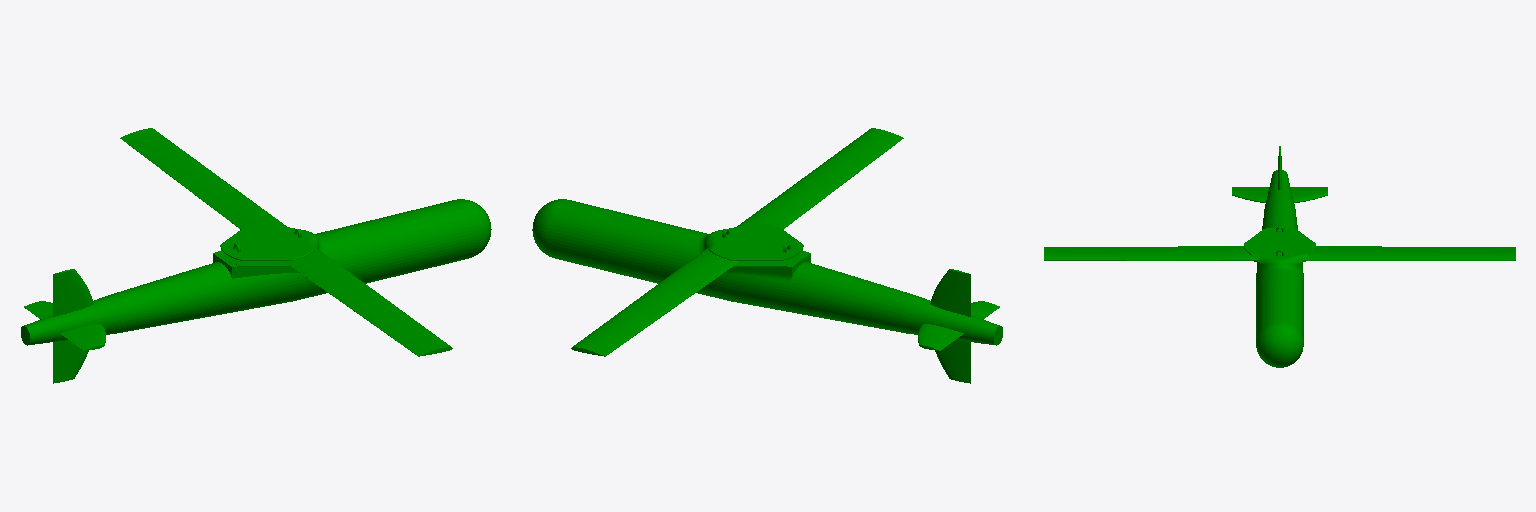
robot.urdf — uav_ver62:
<?xml version="1.0"?>
<robot name="uav_ver62">

  <!-- UAV 색상 -->
  <material name="uav_green">
    <color rgba="0.0 0.6 0.0 0.60"/>
  </material>

  <!-- ==================== UAV 본체 ==================== -->

  <link name="base_link">

    <inertial>
      <origin
        xyz="0.050569840203091215 3.202564255348868e-06 0.005434556406299246"
        rpy="0 0 0"/>

      <mass value="15.0"/>

      <inertia
        ixx="0.63"
        iyy="6.46"
        izz="6.46"
        ixy="0.0"
        iyz="0.0"
        ixz="0.0"/>
    </inertial>

    <!-- 비행기 본체 모델 -->
    <visual name="base_link_visual">
      <origin xyz="0 0 0" rpy="0 0 3.141592653589793"/>

      <geometry>
        <mesh
          filename="../meshes/base_link.stl"
          scale="0.0003 0.0003 0.0003"/>
      </geometry>

      <material name="uav_green"/>
    </visual>


    <!-- 본체 충돌 모델 -->
    <collision name="base_link_collision">
      <origin xyz="0 0 0" rpy="0 0 3.141592653589793"/>

      <geometry>
        <mesh
          filename="../meshes/base_link.stl"
          scale="0.0003 0.0003 0.0003"/>
      </geometry>
    </collision>

  </link>


  <!-- ==================== 왼쪽 날개 ==================== -->

  <link name="left_wing_1">

    <inertial>
      <origin
        xyz="-0.08189955557332364 -0.6634945672157346 -0.0181460003779636"
        rpy="0 0 0"/>

      <mass value="2.5"/>

      <inertia
        ixx="0.4608"
        iyy="0.0101"
        izz="0.4707"
        ixy="0.0"
        iyz="0.0"
        ixz="0.0"/>
    </inertial>

    <visual name="left_wing_visual">
      <origin xyz="-0.075 0.06 -0.18" rpy="0 0 0"/>

      <geometry>
        <mesh
          filename="../meshes/left_wing_1.stl"
          scale="0.0003 0.0003 0.0003"/>
      </geometry>

      <material name="uav_green"/>
    </visual>

    <collision name="left_wing_collision">
      <origin xyz="-0.075 0.06 -0.18" rpy="0 0 0"/>

      <geometry>
        <mesh
          filename="../meshes/left_wing_1.stl"
          scale="0.0003 0.0003 0.0003"/>
      </geometry>
    </collision>

  </link>


  <!-- ==================== 오른쪽 날개 ==================== -->

  <link name="right_wing_1">

    <inertial>
      <origin
        xyz="-0.08189954828725175 0.663494733381595 -0.01814624263399736"
        rpy="0 0 0"/>

      <mass value="2.5"/>

      <inertia
        ixx="0.4608"
        iyy="0.0101"
        izz="0.4707"
        ixy="0.0"
        iyz="0.0"
        ixz="0.0"/>
    </inertial>

    <visual name="right_wing_visual">
      <origin xyz="-0.075 -0.06 -0.18" rpy="0 0 0"/>

      <geometry>
        <mesh
          filename="../meshes/right_wing_1.stl"
          scale="0.0003 0.0003 0.0003"/>
      </geometry>

      <material name="uav_green"/>
    </visual>

    <collision name="right_wing_collision">
      <origin xyz="-0.075 -0.06 -0.18" rpy="0 0 0"/>

      <geometry>
        <mesh
          filename="../meshes/right_wing_1.stl"
          scale="0.0003 0.0003 0.0003"/>
      </geometry>
    </collision>

  </link>


  <!-- ==================== 날개 관절 ==================== -->

  <joint name="joint_left_wing" type="revolute">

    <origin xyz="-0.075 0.06 0.18" rpy="0 0 3.141592653589793"/>

    <parent link="base_link"/>
    <child link="left_wing_1"/>

    <axis xyz="0.0 0.0 1.0"/>

    <limit
      lower="0.0"
      upper="1.5708"
      effort="50.0"
      velocity="1.0"/>

    <dynamics damping="0.5" friction="0.05"/>

  </joint>


  <joint name="joint_right_wing" type="revolute">

    <origin xyz="-0.075 -0.06 0.18" rpy="0 0 3.141592653589793"/>

    <parent link="base_link"/>
    <child link="right_wing_1"/>

    <axis xyz="0.0 0.0 1.0"/>

    <limit
      lower="-1.5708"
      upper="0.0"
      effort="50.0"
      velocity="1.0"/>

    <dynamics damping="0.5" friction="0.05"/>

  </joint>



  <!-- 실행 중에도 수동 pose를 유지하도록 모든 링크의 중력 비활성화 -->
  <!-- 수동 6D 목표물: 물리엔진의 선속도/각속도에 의한 표류 방지 -->
  <gazebo>
    <static>true</static>
  </gazebo>

  <gazebo reference="base_link">
    <gravity>false</gravity>
  </gazebo>
  <gazebo reference="left_wing_1">
    <gravity>false</gravity>
  </gazebo>
  <gazebo reference="right_wing_1">
    <gravity>false</gravity>
  </gazebo>

  <!-- base_link와 일치하는 UAV 모델의 world 6D pose 발행 -->
  <gazebo>
    <plugin
      filename="gz-sim-pose-publisher-system"
      name="gz::sim::systems::PosePublisher">
      <publish_model_pose>true</publish_model_pose>
      <publish_link_pose>false</publish_link_pose>
      <publish_collision_pose>false</publish_collision_pose>
      <publish_visual_pose>false</publish_visual_pose>
      <publish_nested_model_pose>false</publish_nested_model_pose>
      <use_pose_vector_msg>false</use_pose_vector_msg>
      <static_publisher>false</static_publisher>
      <update_frequency>30</update_frequency>
    </plugin>
  </gazebo>

</robot>

--- Render facts (derived) ---
The picture shows the robot from 3 angles, left to right: view 1: azimuth 30°, elevation 25°; view 2: azimuth 150°, elevation 25°; view 3: azimuth 270°, elevation 25°; orthographic projection.
Model uav_ver62 with 3 links and 2 joints (2 revolute), rooted at base_link, posed every joint at zero.
Links seen in each view (by area): view 1: base_link, right_wing_1, left_wing_1; view 2: base_link, left_wing_1, right_wing_1; view 3: base_link, left_wing_1, right_wing_1.
Link boxes in pixels (box(x1,y1,x2,y2)): base_link: box(21, 199, 491, 383); right_wing_1: box(284, 248, 452, 356); left_wing_1: box(120, 128, 286, 229); base_link: box(532, 199, 1002, 383); left_wing_1: box(571, 248, 739, 356); right_wing_1: box(737, 128, 903, 229); base_link: box(1232, 146, 1327, 367); left_wing_1: box(1301, 246, 1515, 260); right_wing_1: box(1044, 246, 1258, 260).
Bounding box of the posed robot: 0.795 × 0.891 × 0.18 m (x, y, z).
Meshes: 3 distinct files referenced, 3 mesh visuals loaded (3 binary STL).
